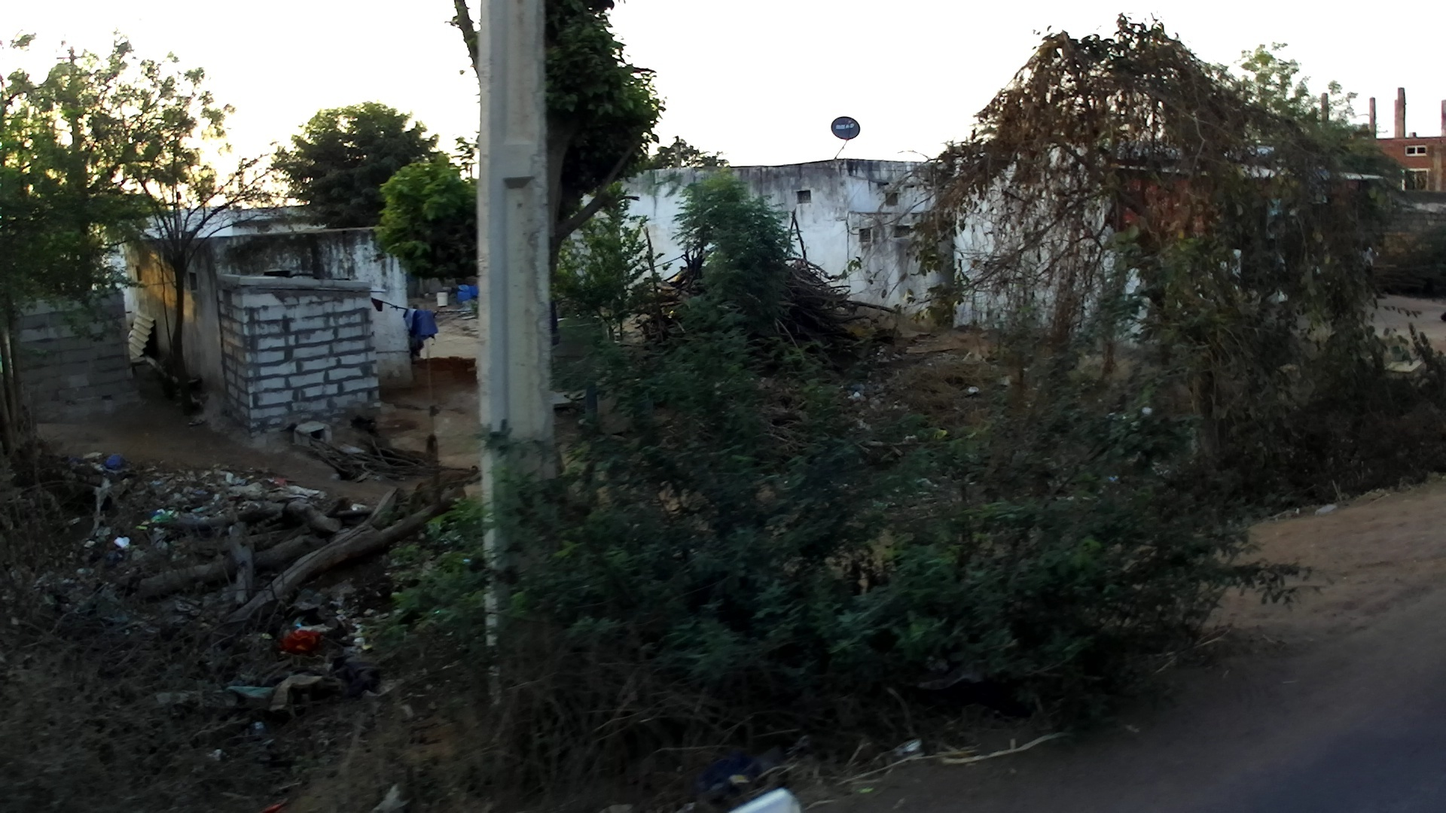person: (1362, 245, 1388, 299)
